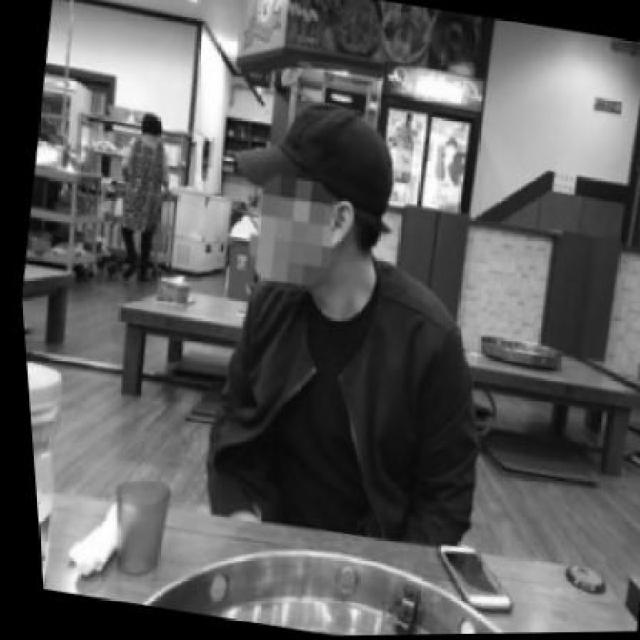hat: (232, 103, 391, 232)
